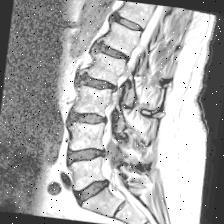disc: (106, 9, 150, 36)
hdisc: (68, 174, 116, 210), (64, 104, 112, 134), (89, 37, 136, 67), (75, 70, 122, 99), (65, 140, 111, 168)
